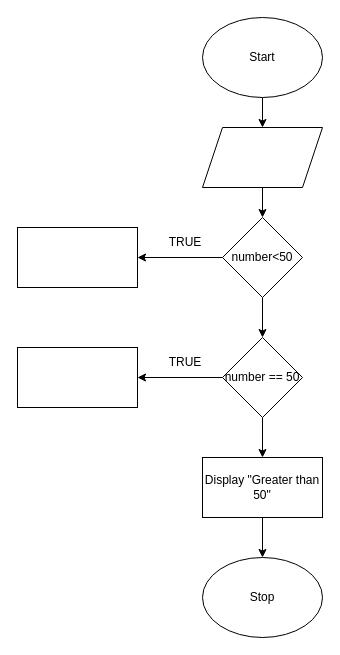
Some shapes in this 340 by 655 pixel diagram are drawn without their labels. The centre of each missing label's shape, as x and y in pixels:
Display "Equal to 50": (x=77, y=377)
Display "Less than 50": (x=77, y=257)
number: (x=262, y=157)
